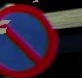No waiting: (0, 3, 62, 77)
